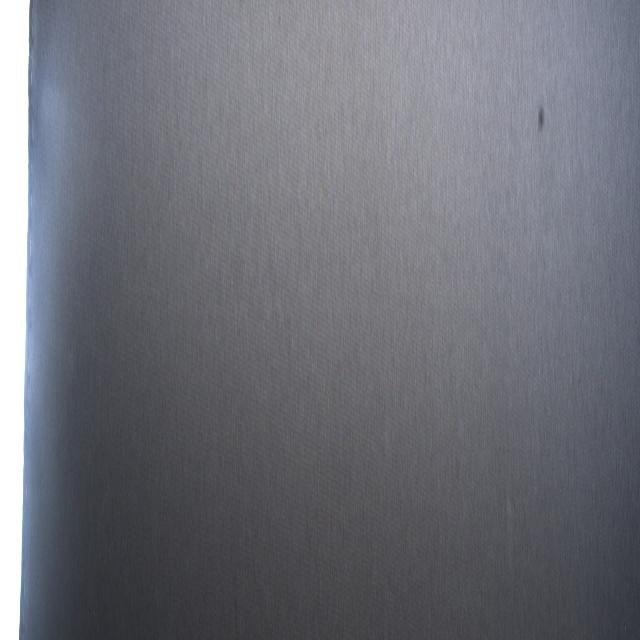crease: (225, 562, 243, 636)
whiteDefect: (500, 472, 527, 640)
